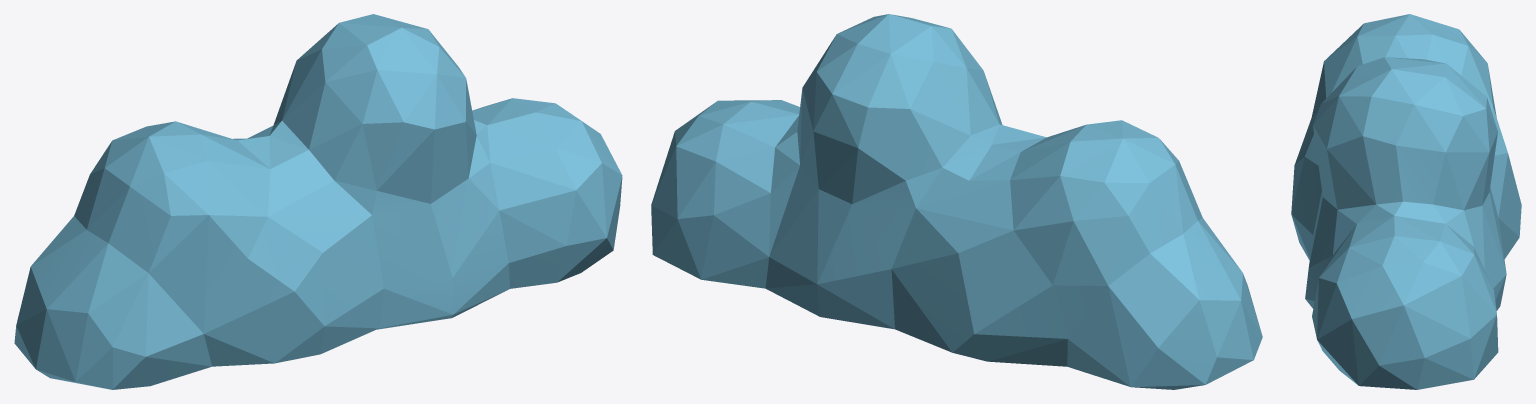
Rendered from small_cloud_21.fbx.
The picture shows the model from 3 angles, left to right: view 1: azimuth 30°, elevation 25°; view 2: azimuth 150°, elevation 25°; view 3: azimuth 270°, elevation 25°; orthographic projection. The views are drawn at different scales.
Visible parts, largest first — view 1: cloud_31; view 2: cloud_31; view 3: cloud_31.
Boxes of the visible parts, bbox=[...] form: cloud_31: bbox=[14, 14, 622, 389]; cloud_31: bbox=[651, 14, 1262, 389]; cloud_31: bbox=[1291, 14, 1521, 389].
Bounding box in the file's own units: 531 × 240 × 204.
